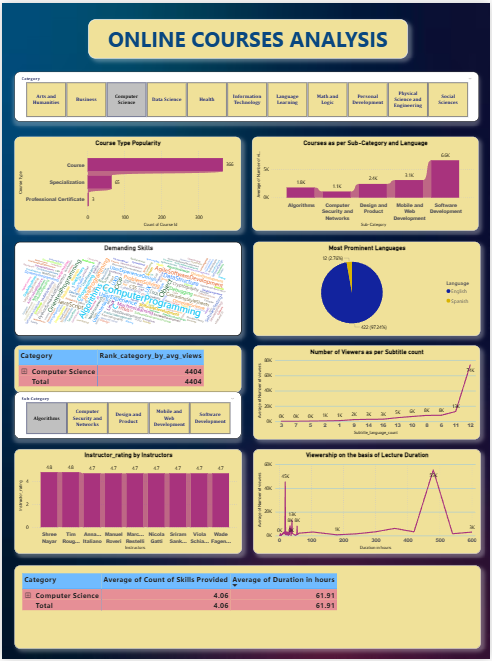

This screenshot's page, from the dashboard's own definition file:
{"tool":"powerbi","page":{"name":"Page 1","canvas":[1300,1750],"ordinal":0},"visuals":[{"type":"textbox","box":[228.3,41.7,851.7,105],"z":0},{"type":"slicer","fields":{"Values":["Online_Courses.Category"]},"box":[32.9,182.9,1238.6,132.9],"z":1000},{"type":"barChart","title":"Course Type Popularity","fields":{"Category":["Online_Courses.Course Type"],"Y":["CountNonNull(Online_Courses.Course Id)"]},"box":[32.9,355.7,604.3,250],"z":2000},{"type":"columnChart","title":"Courses as per Sub-Category and Language","fields":{"Category":["Online_Courses.Sub-Category","Online_Courses.Language"],"Y":["Avg(Online_Courses.Number of viewers)"]},"box":[667.1,355.7,604.3,250],"z":3000},{"type":"WordCloud1447959067750","title":"Demanding Skills","fields":{"Category":["Online_Courses.Skills"]},"box":[32.9,635.7,605.7,251.4],"z":4000},{"type":"pieChart","title":"Most Prominent Languages","fields":{"Category":["Online_Courses.Language"],"Y":["CountNonNull(Online_Courses.Course Id)"]},"box":[670,635.7,605.7,251.4],"z":5000},{"type":"pivotTable","fields":{"Rows":["Online_Courses.Category","Online_Courses.Language"],"Values":["Online_Courses.Rank_category_by_avg_views"]},"box":[33.3,911.7,605,125],"z":6000},{"type":"lineChart","title":"Number of Viewers as per Subtitle count","fields":{"Category":["Online_Courses.Subtitle_language_count"],"Y":["Avg(Online_Courses.Number of viewers)"]},"box":[670,911.7,605,250],"z":7000},{"type":"columnChart","fields":{"Category":["Teachers.Instructors"],"Y":["Teachers.Instructor_rating"]},"box":[33.3,1188.3,606.7,278.3],"z":8000},{"type":"slicer","fields":{"Values":["Teachers.Sub-Category"]},"box":[33.3,1036.7,605,125],"z":9000},{"type":"lineChart","title":"Viewership on the basis of Lecture Duration ","fields":{"Category":["Online_Courses.Duration in hours"],"Y":["Avg(Online_Courses.Number of viewers)"]},"box":[670,1188.3,606.7,278.3],"z":10000},{"type":"pivotTable","fields":{"Rows":["Online_Courses.Category","Online_Courses.Sub-Category"],"Values":["Avg(Online_Courses.Count of Skills Provided)","Avg(Online_Courses.Duration in hours)"]},"box":[33.3,1498.3,1243.3,221.7],"z":11000}]}

Visuals, with their boxes in screenshot pixels (x1, y1, x2, y2), scaled from the page's 1300x1750 canvas onto the 492x661 screenshot:
textbox: select_region(86, 16, 409, 55)
slicer - Online_Courses.Category: select_region(12, 69, 481, 119)
"Course Type Popularity" barChart: select_region(12, 134, 241, 229)
"Courses as per Sub-Category and Language" columnChart: select_region(252, 134, 481, 229)
"Demanding Skills" WordCloud1447959067750: select_region(12, 240, 242, 335)
"Most Prominent Languages" pieChart: select_region(254, 240, 483, 335)
pivotTable - Online_Courses.Category x Online_Courses.Language: select_region(13, 344, 242, 392)
"Number of Viewers as per Subtitle count" lineChart: select_region(254, 344, 483, 439)
columnChart - Teachers.Instructors x Teachers.Instructor_rating: select_region(13, 449, 242, 554)
slicer - Teachers.Sub-Category: select_region(13, 392, 242, 439)
"Viewership on the basis of Lecture Duration " lineChart: select_region(254, 449, 483, 554)
pivotTable - Online_Courses.Category x Online_Courses.Sub-Category: select_region(13, 566, 483, 650)
